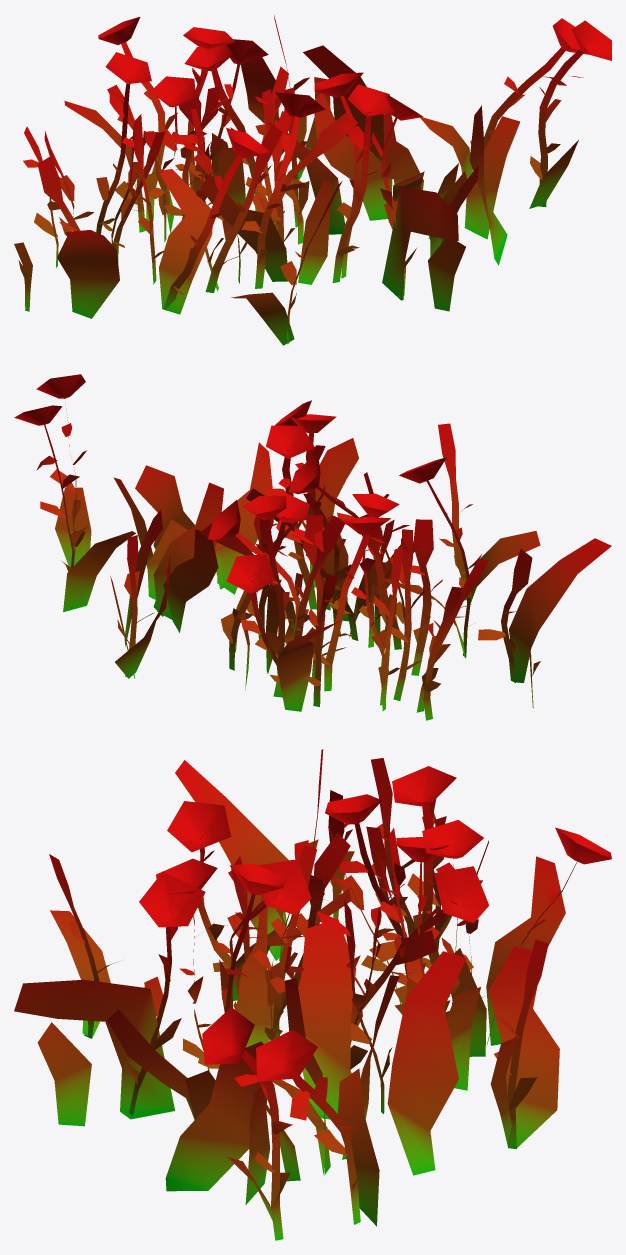
File: Var11_LOD1.fbx
3 views of the same model, one above another, from view 1: azimuth 30°, elevation 25°; view 2: azimuth 150°, elevation 25°; view 3: azimuth 270°, elevation 25° (orthographic). The views are drawn at different scales.
Visible parts, largest first — view 1: _2ae0_Var11_LOD1; view 2: _2ae0_Var11_LOD1; view 3: _2ae0_Var11_LOD1.
Part boxes in pixels (x1,y1,x2,y2): _2ae0_Var11_LOD1: (14, 15, 611, 345); _2ae0_Var11_LOD1: (14, 374, 611, 720); _2ae0_Var11_LOD1: (14, 749, 611, 1240).
Size of the model in its own units: 26.87 by 9.11 by 19.32.
